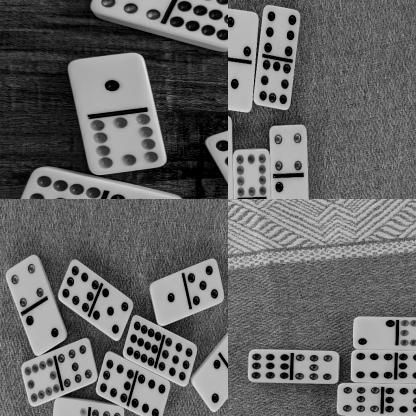pip-1: (69, 52, 149, 115), (150, 273, 188, 325), (228, 59, 254, 111)
pip-10: (85, 113, 168, 174), (22, 356, 61, 408), (234, 146, 272, 199), (397, 316, 416, 350)
pip-11: (15, 165, 102, 199)
pip-12: (170, 0, 228, 47), (124, 314, 163, 367), (206, 125, 228, 189)
pip-2: (26, 300, 66, 354), (191, 357, 228, 411), (228, 7, 260, 62), (354, 316, 398, 350), (271, 173, 310, 199)
pip-3: (50, 397, 88, 416)
pip-4: (6, 252, 45, 306), (271, 124, 308, 174)
pip-5: (93, 286, 132, 340), (187, 258, 225, 308)
pip-6: (264, 4, 301, 56), (132, 373, 170, 416), (352, 349, 396, 384)
pip-7: (58, 336, 98, 388), (91, 0, 175, 20), (292, 350, 340, 383), (338, 382, 384, 415), (89, 404, 125, 416)
pip-8: (59, 258, 99, 312), (96, 350, 135, 403), (254, 57, 292, 108), (382, 384, 416, 416), (395, 350, 416, 384)
pip-9: (160, 336, 198, 386), (248, 349, 292, 383)
